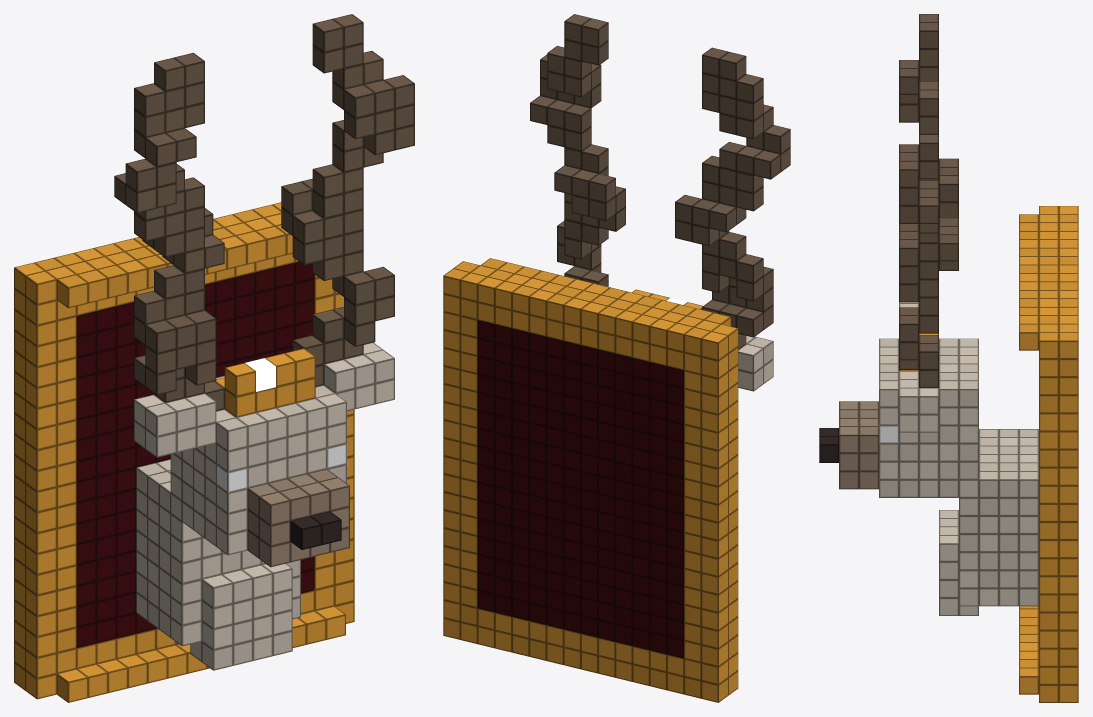
Rendered from reindeer_head.glb.
3 renders of one model, left to right at view 1: azimuth 30°, elevation 25°; view 2: azimuth 150°, elevation 25°; view 3: azimuth 270°, elevation 25°, orthographic. The views are drawn at different scales.
Parts seen in each view (by area): view 1: reindeer_head; view 2: reindeer_head; view 3: reindeer_head.
Boxes of the visible parts, bbox=[...] form: reindeer_head: bbox=[14, 14, 414, 702]; reindeer_head: bbox=[443, 14, 790, 702]; reindeer_head: bbox=[819, 14, 1078, 702].
Size of the model in its own units: 0.8 by 1.6 by 0.65.
8 materials, 7 textured.
